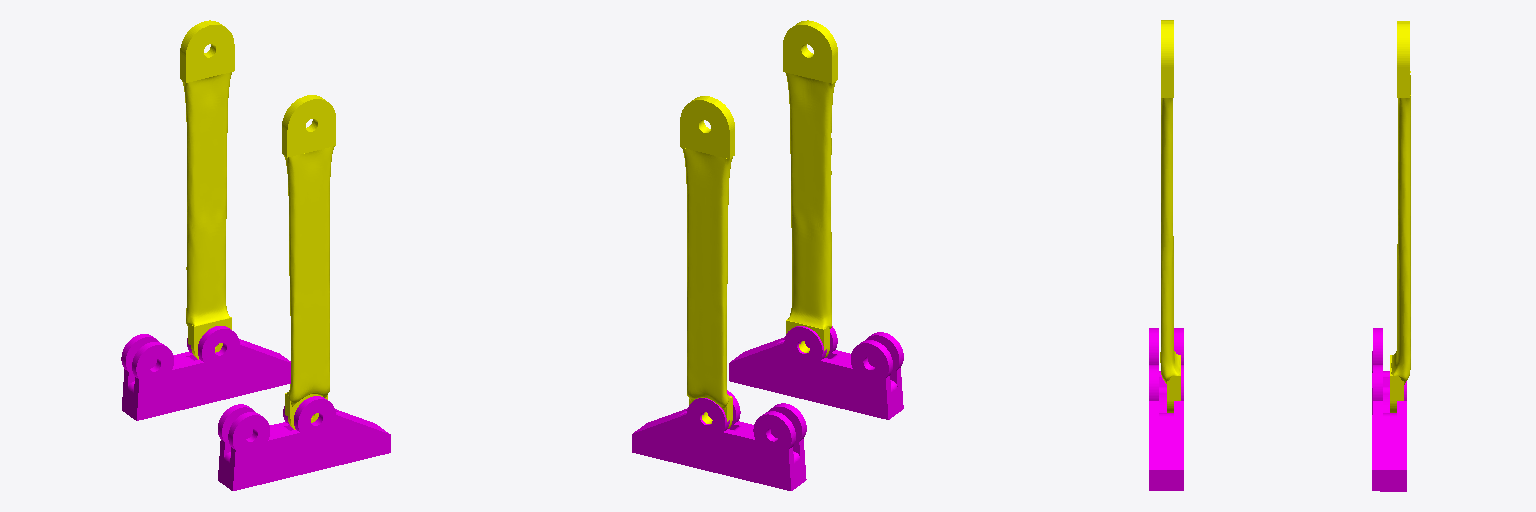
URDF robot description (four_dof):
<robot name="four_dof">

    <material name="red">
        <color rgba="1.0 0.0 0.0 1"/>
    </material>

    <material name="green_light">
        <color rgba="0.0 1.0 0.0 1"/>
    </material>

    <material name="green_dark">
        <color rgba="0.0 0.5 0.0 1"/>
    </material>

    <material name="blue">
        <color rgba="0.0 0.0 1.0 1"/>
    </material>

    <material name="yellow">
        <color rgba="1.0 1.0 0.0 1"/>
    </material>

    <material name="magenta">
        <color rgba="1.0 0.0 1.0 1"/>
    </material>


    <link name="base_link">
    </link>

    <link name="body">
        <inertial>
            <origin xyz= "0.02973 0.04568 0 " rpy = "0 0 0" />
            <mass value="1.1161"/>
            <inertia ixx="0.001939" ixy="-0.000057687491" ixz="0.00000002363" iyy=" 0.001749" iyz="0.000000528114" izz="0.001259"/>
        </inertial>
        <visual>
            <geometry>
                <mesh filename="package://four_dof/meshes/draft1/body_for_Sym.stl" scale="0.001 0.001 0.001"/>
            </geometry>
        </visual>

        <collision>
            <geometry>
                <mesh filename="package://four_dof/meshes/draft1/body_for_Sym.stl" scale="0.001 0.001 0.001"/>
            </geometry>
        </collision>

    </link>

    <!--left thigh-->
    <link name="left_front_thigh">

        <!--inertial>
            <mass value="0.030"/>
        </inertial-->

        <visual>
            <geometry>
                <mesh filename="package://four_dof/meshes/draft1/left_front_thigh_link.stl" scale="0.001 0.001 0.001"/>
            </geometry>
            <material name="green_dark"/>
        </visual>

        <collision>
            <geometry>
                <mesh filename="package://four_dof/meshes/draft1/left_front_thigh_link.stl" scale="0.001 0.001 0.001"/>
            </geometry>
        </collision>
    </link>


    <link name="right_front_thigh">
        <!--inertial>
            <mass value="0.030"/>
        </inertial-->

        <visual>
            <geometry>
                <mesh filename="package://four_dof/meshes/draft1/right_front_thigh_link.stl" scale="0.001 0.001 0.001"/>
            </geometry>
            <material name="green_dark"/>
        </visual>
        <collision>
            <geometry>
                <mesh filename="package://four_dof/meshes/draft1/right_front_thigh_link.stl" scale="0.001 0.001 0.001"/>
            </geometry>
        </collision>
    </link>

    <link name="left_front_knee">
        <!--inertial>
            <mass value="0.015"/>
    </inertial-->
        <visual>
            <geometry>
                <mesh filename="package://four_dof/meshes/draft1/left_front_knee_link.stl" scale="0.001 0.001 0.001"/>
            </geometry>
            <material name="yellow"/>
        </visual>

        <collision>
            <geometry>
                <mesh filename="package://four_dof/meshes/draft1/left_front_knee_link.stl" scale="0.001 0.001 0.001"/>
            </geometry>
        </collision>
    </link>


    <link name="right_front_knee">
        <!--inertial>
            <mass value="0.015"/>
</inertial-->
        <visual>
            <geometry>
                <mesh filename="package://four_dof/meshes/draft1/right_front_knee_link.stl" scale="0.001 0.001 0.001"/>
            </geometry>
            <material name="yellow"/>
        </visual>

        <collision>
            <geometry>
                <mesh filename="package://four_dof/meshes/draft1/right_front_knee_link.stl" scale="0.001 0.001 0.001"/>
            </geometry>
        </collision>
    </link>


    <link name="left_foot">
        <!--inertial>
            <mass value="0.010"/>
</inertial-->
        <visual>
            <geometry>
                <mesh filename="package://four_dof/meshes/draft1/left_foot.stl" scale="0.001 0.001 0.001"/>
            </geometry>
            <material name="magenta"/>
        </visual>

        <collision>
            <geometry>
                <mesh filename="package://four_dof/meshes/draft1/left_foot.stl" scale="0.001 0.001 0.001"/>
            </geometry>
        </collision>

    </link>

    <link name="right_foot">
        <!--inertial>
            <mass value="0.010"/>
        </inertial-->

        <visual>
            <geometry>
                <mesh filename="package://four_dof/meshes/draft1/right_foot.stl" scale="0.001 0.001 0.001"/>
            </geometry>
            <material name="magenta"/>
        </visual>

        <collision>
            <geometry>
                <mesh filename="package://four_dof/meshes/draft1/right_foot.stl" scale="0.001 0.001 0.001"/>
            </geometry>
        </collision>

    </link>

    <joint name="base_to_body" type="fixed">
        <parent link="base_link"/>
        <child link="body"/>
        <origin xyz="0.0 0.0 0" rpy="1.57 0 0 "/>
    </joint>

    <joint name="body_to_left_thigh" type="revolute">
        <parent link="body"/>
        <child link="left_front_thigh"/>
        <origin xyz="0.035 0.0165 -0.05125" rpy="0 0 0"/>
        <axis xyz="0.0 0.0 1"/>
        <limit effort="1000.0" lower="-1.57" upper="1.57" velocity="0.5"/>
    </joint>

    <joint name="body_to_right_thigh" type="revolute">
        <parent link="body"/>
        <child link="right_front_thigh"/>
        <origin xyz="0.035 0.0165 -0.05125" rpy="0 0 0"/>
        <axis xyz="0.0 0.0 1"/>
        <limit effort="1000.0" lower="-1.57" upper="1.57" velocity="0.5"/>
    </joint>

    <joint name="left_thigh_to_knee" type="revolute">
        <parent link="left_front_thigh"/>
        <child link="left_front_knee"/>
        <origin xyz="0.0 -0.1335 0.01835" rpy="0 0 0"/>
        <axis xyz="0.0 0.0 1"/>
        <limit effort="0" lower="-1.57" upper="1.57" velocity="0"/>
    </joint>

    <joint name="right_thigh_to_knee" type="revolute">
        <parent link="right_front_thigh"/>
        <child link="right_front_knee"/>
        <origin xyz="0.0 -0.1335 0.01835" rpy="0 0 0"/>
        <axis xyz="0.0 0.0 1"/>
        <limit effort="0" lower="-1.57" upper="1.57" velocity="0" />
    </joint>

    <joint name="left_knee_to_foot" type="revolute">
        <origin xyz="0.0 -0.110041 0.0" rpy="0.0 0.0 -1.57"/>
        <parent link="left_front_knee"/>
        <child link="left_foot"/>
        <axis xyz="0.0 0.0 1.0"/>
        <limit effort="0.0" lower="1.57" upper="1.57" velocity="0.0"/>
    </joint>

    <joint name="right_knee_to_foot" type="revolute">
        <origin xyz="0.0 -0.110041 0.0" rpy="0.0 0.0 -1.57"/>
        <parent link="right_front_knee"/>
        <child link="right_foot"/>
        <axis xyz="0.0 0.0 1.0"/>
        <limit effort="0.0" lower="1.57" upper="1.57" velocity="0.0"/>
    </joint>

</robot>

--- Facts derived from the render (not from the file) ---
Views: 3 orthographic renders of the robot side by side, from view 1: azimuth 30°, elevation 25°; view 2: azimuth 150°, elevation 25°; view 3: azimuth 270°, elevation 25°.
Robot: four_dof — 8 links, 7 joints (6 revolute, 1 fixed); root link base_link; default pose: joints at zero except 2 at the middle of their limits (left_knee_to_foot = 1.57, right_knee_to_foot = 1.57).
Links seen in each view (by area): view 1: left_front_knee, right_front_knee, right_foot, left_foot; view 2: right_front_knee, left_front_knee, left_foot, right_foot; view 3: left_front_knee, right_front_knee, right_foot, left_foot.
Boxes of the visible links, bbox=[...] form: left_front_knee: bbox=[180, 20, 234, 359]; right_front_knee: bbox=[282, 95, 335, 429]; right_foot: bbox=[218, 396, 390, 490]; left_foot: bbox=[121, 326, 290, 420]; right_front_knee: bbox=[783, 20, 837, 357]; left_front_knee: bbox=[680, 96, 734, 428]; left_foot: bbox=[632, 390, 806, 490]; right_foot: bbox=[729, 326, 903, 419]; left_front_knee: bbox=[1390, 21, 1410, 412]; right_front_knee: bbox=[1160, 20, 1180, 412]; right_foot: bbox=[1149, 328, 1183, 490]; left_foot: bbox=[1372, 328, 1406, 491].
Size in the robot's own frame: 0.0626 by 0.0774 by 0.1393 metres.
4 mesh visuals loaded from 7 distinct referenced files (4 binary STL); not drawn: 3 (reference not matched to a file when rendering).